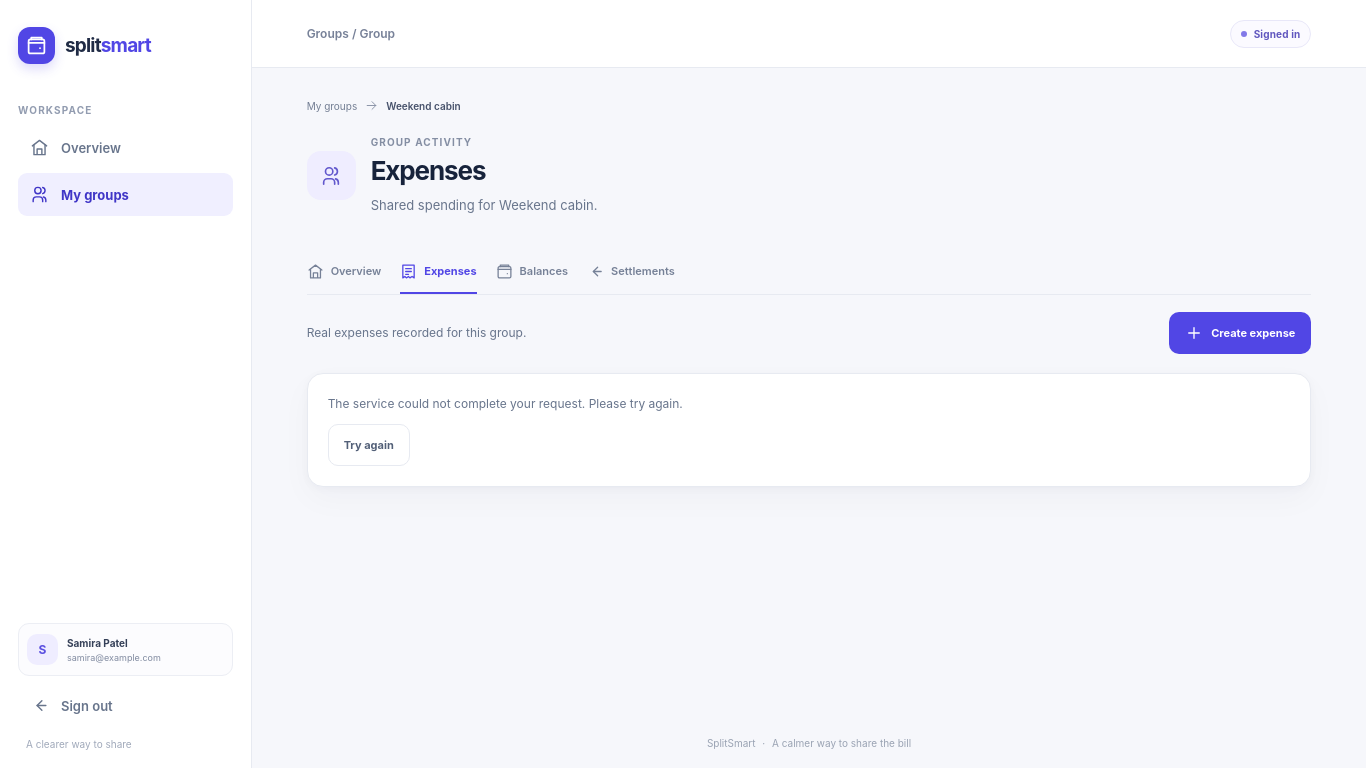
Test: group expense listing and details › reports list failures safely and retries the expense request
This screenshot has width=1366, height=768.
Expected: the message shows "could not complete your request", [328,396,683,410]
Click the button "Try again".
click(369, 445)  # box [328,424,410,466]
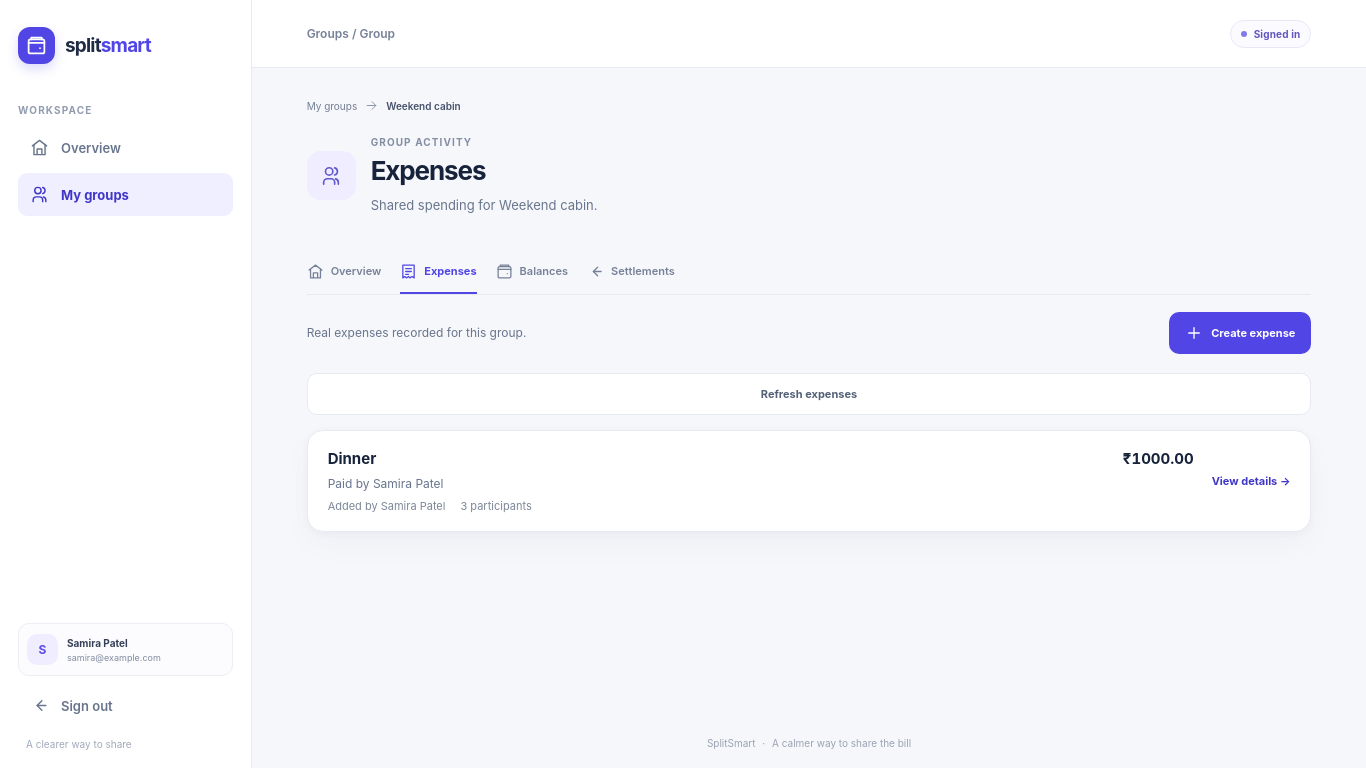
Expected: the link "Dinner" is shown, [328,448,376,468]
